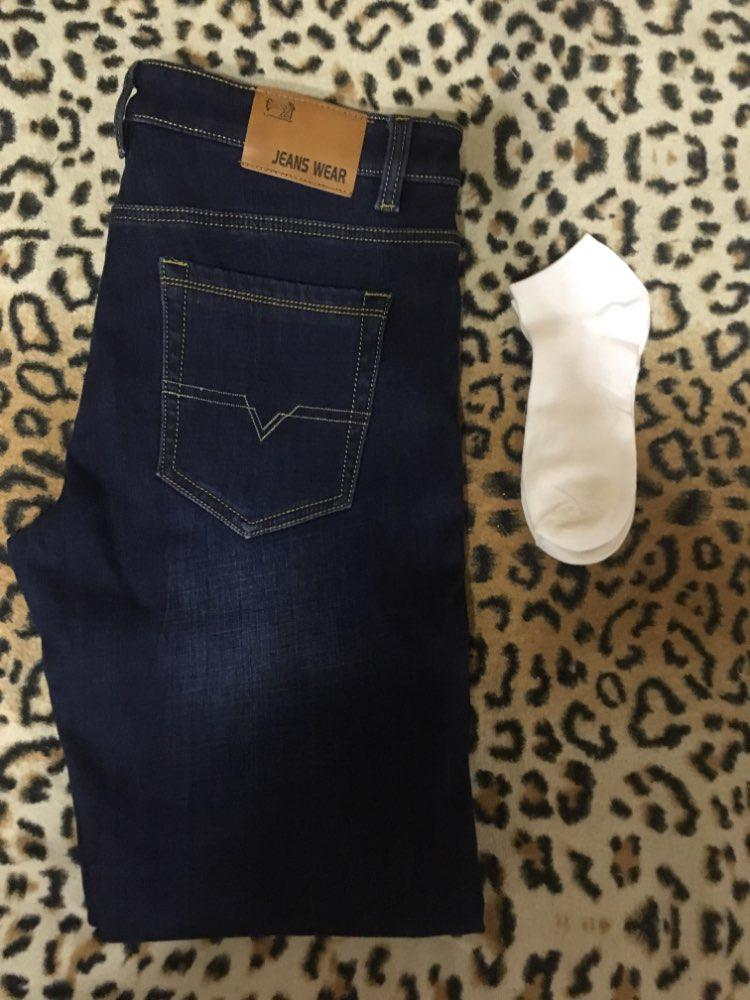jeans: (5, 69, 487, 939)
